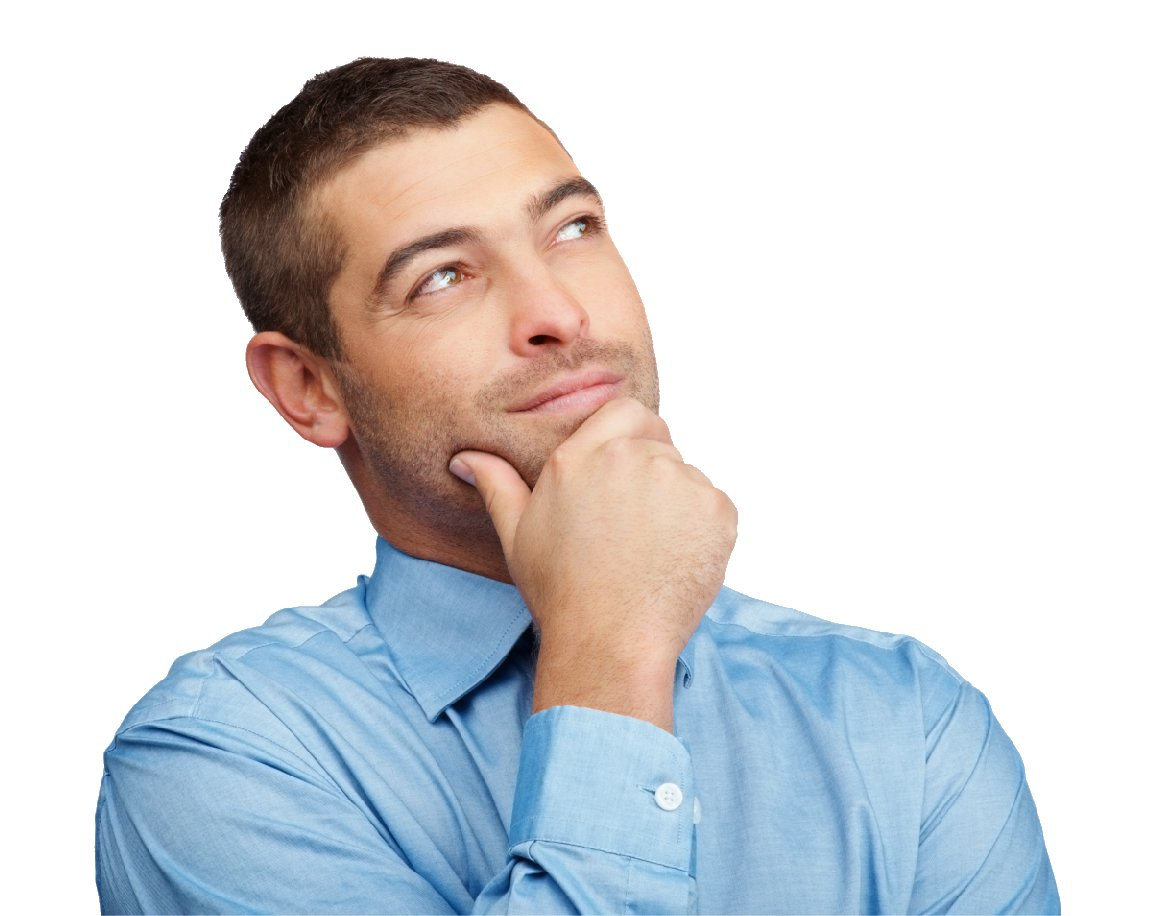noMask: (191, 50, 740, 550)
